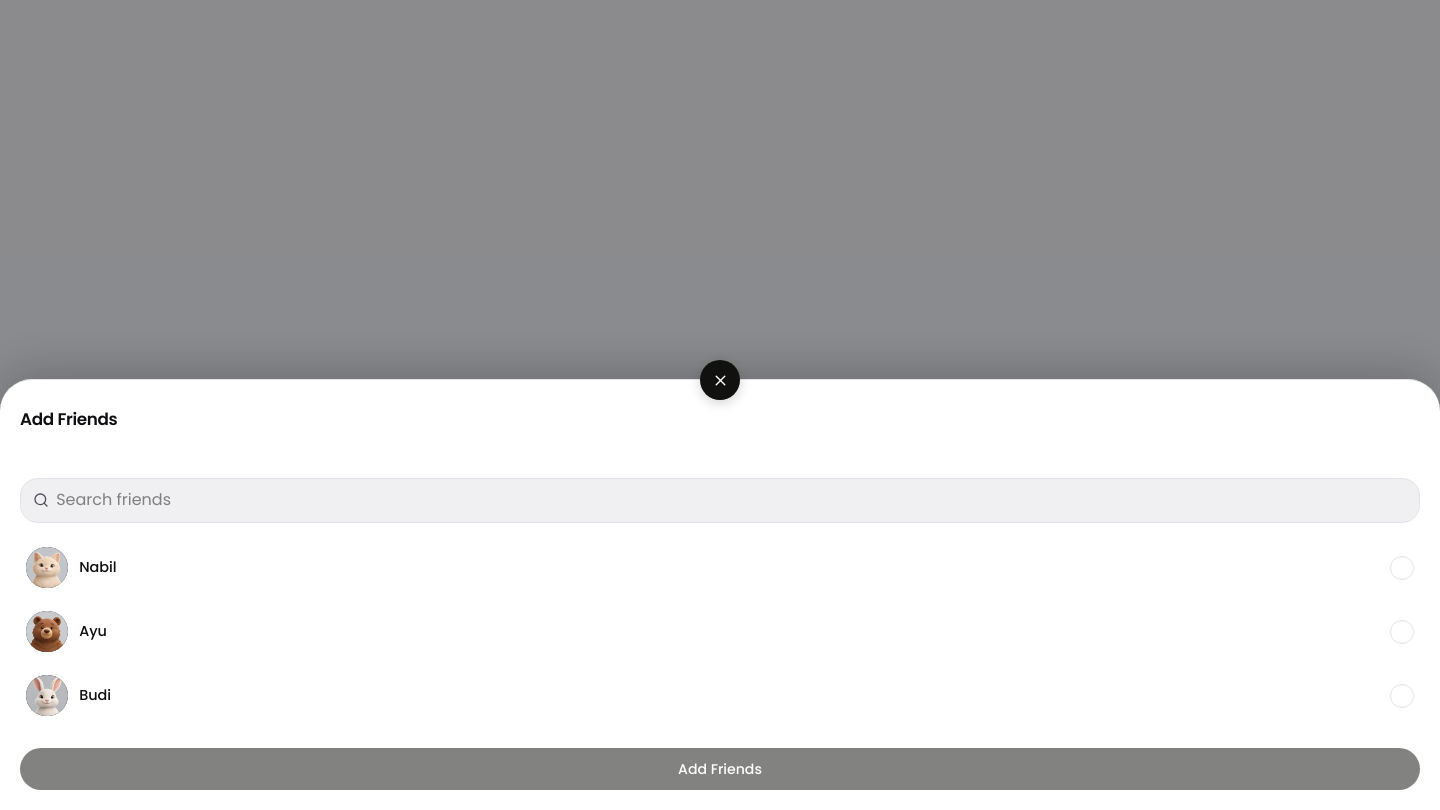
Test: MakeBillFriendPickerSheet › filters friends by search query
This screenshot has width=1440, height=810.
Expected: the button "Nabil" is shown, [20,539,1420,596]
Expected: the button "Ayu" is shown, [20,603,1420,660]
Type "nab" into the field with placeholder "Search friends" at {"x": 720, "y": 500}, box [20,478,1420,523]
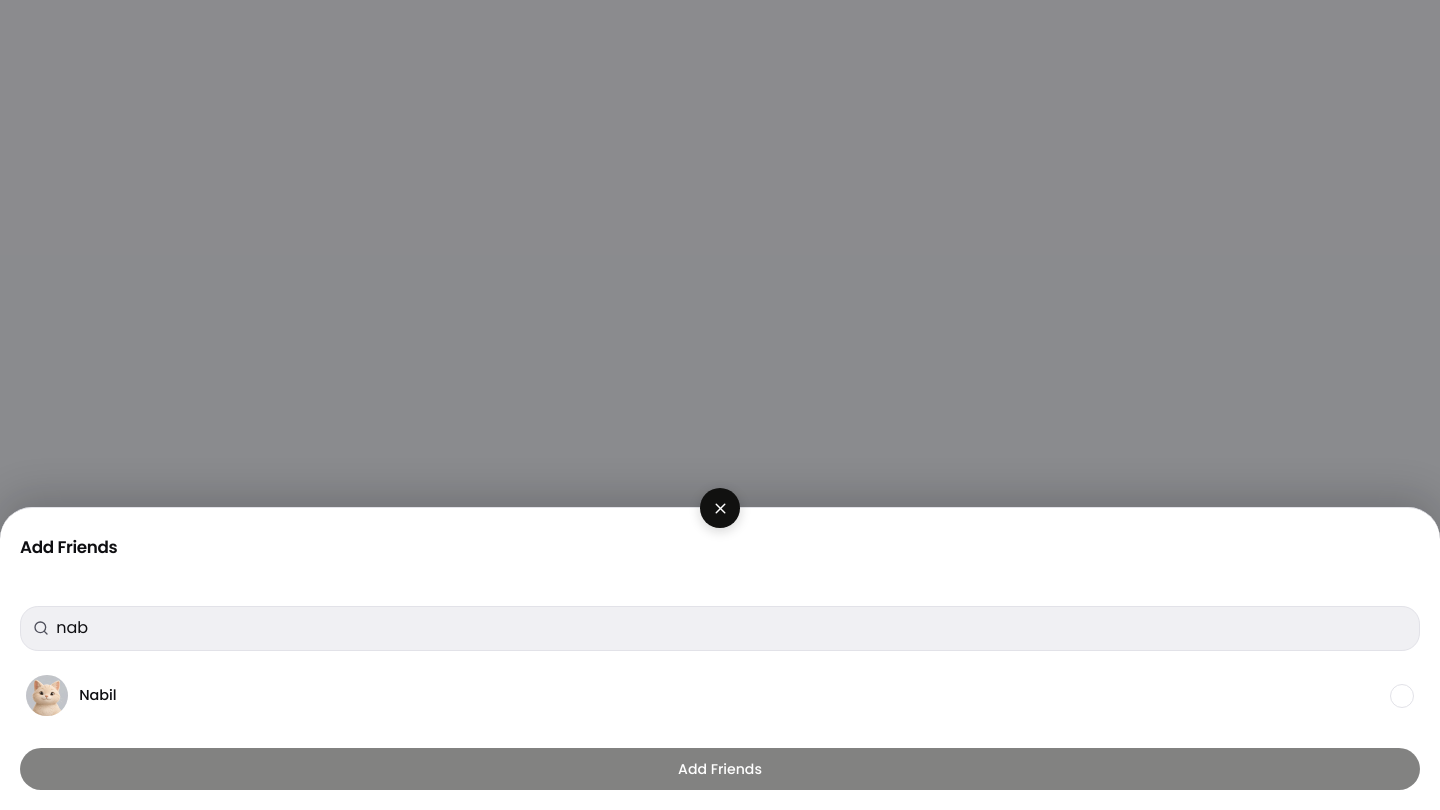
Expected: the button "Nabil" is shown, [20,667,1420,724]
Expected: the button "Ayu" is gone
